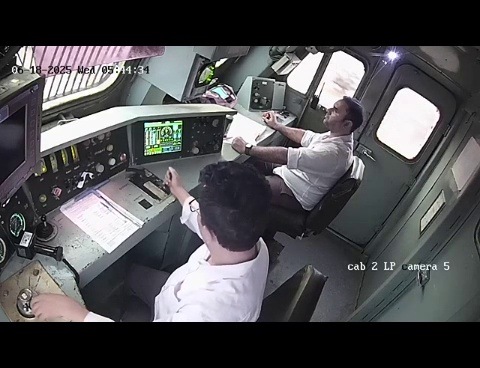brake_applied: (0, 253, 101, 326)
horn_inactive: (28, 210, 64, 245)
